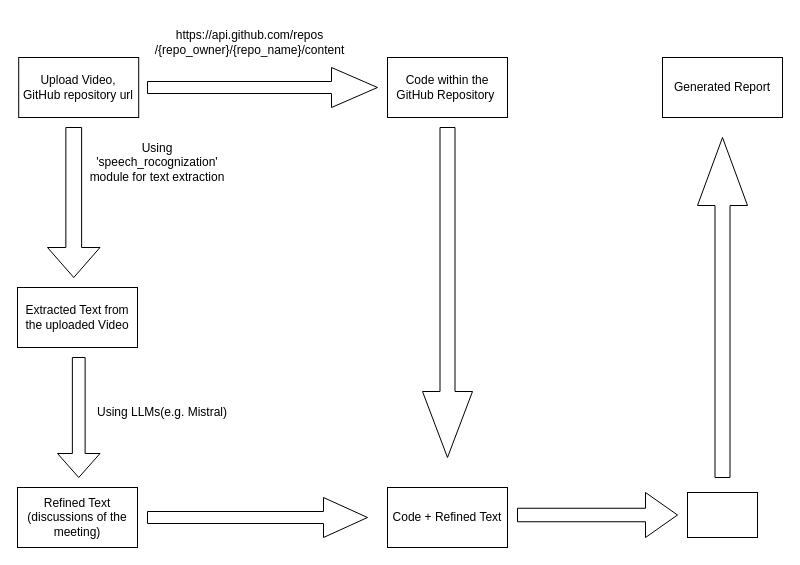
The diagram is 800 pixels wide and 565 high, and some of its shapes have lost their labels. Each missing label, with the box of its shape:
LLM: (686, 492, 758, 538)
uploaded video: (46, 126, 100, 278)
